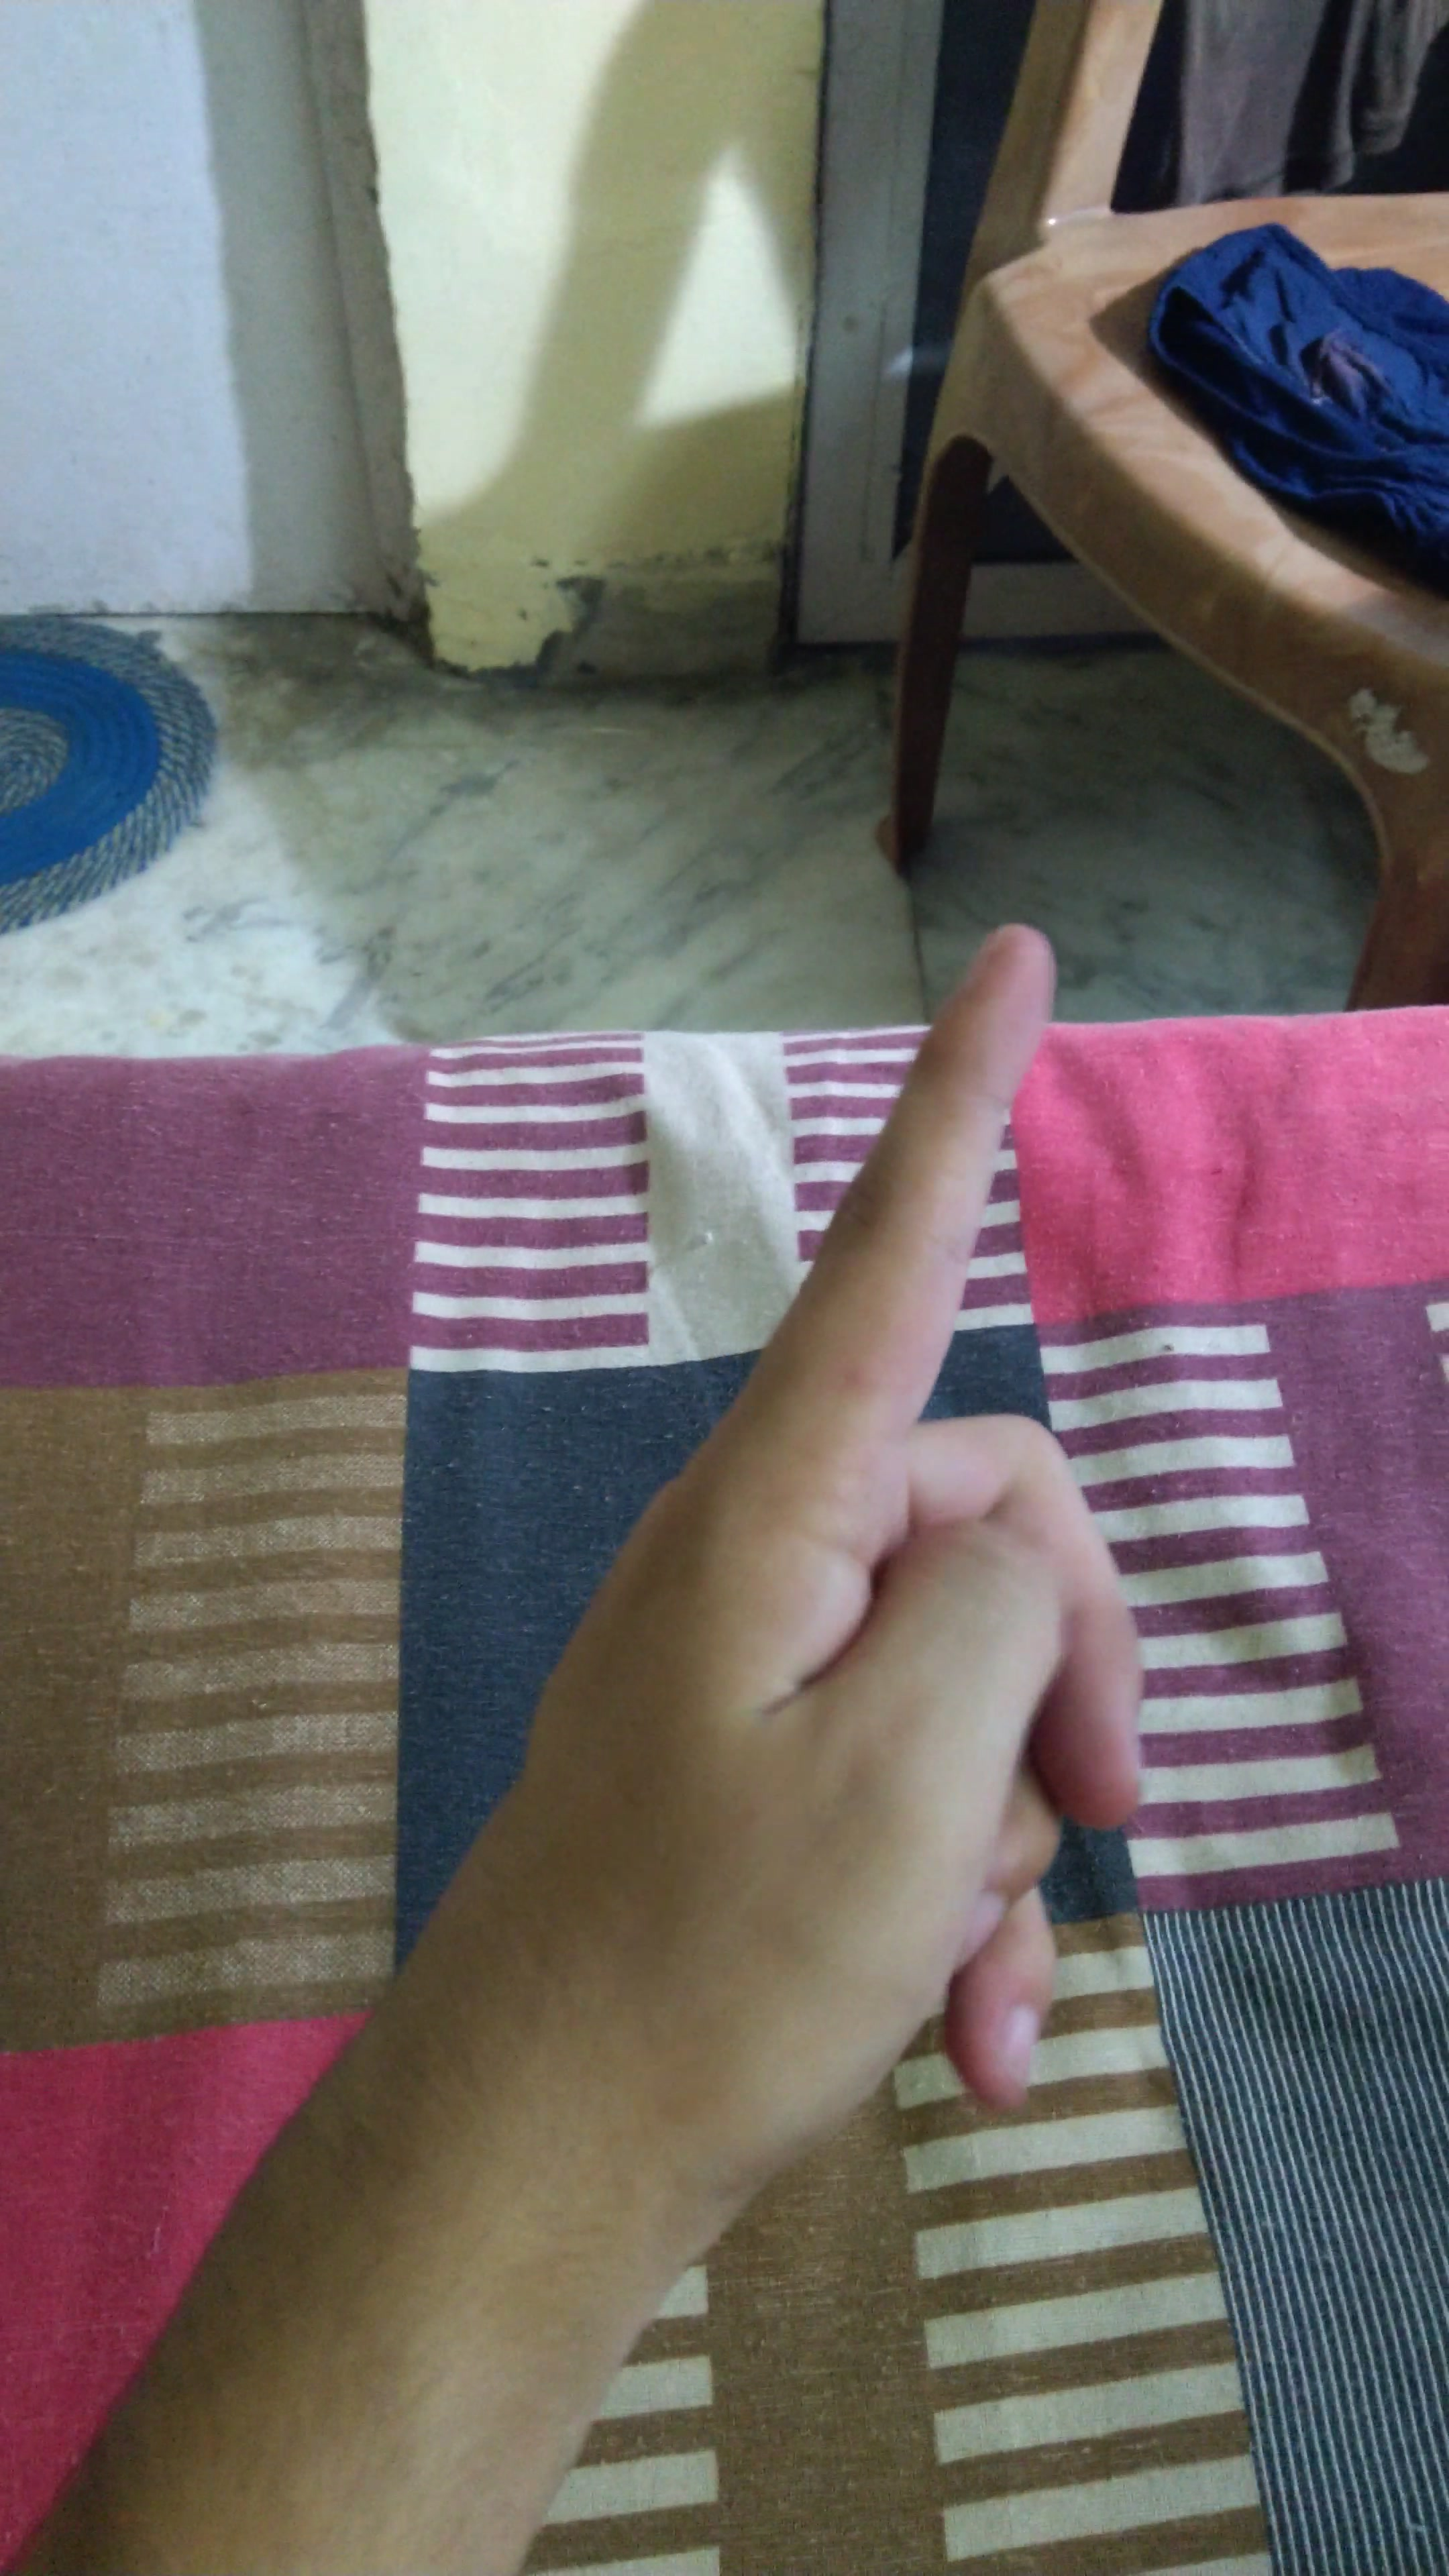hand: (356, 883, 1235, 2252)
